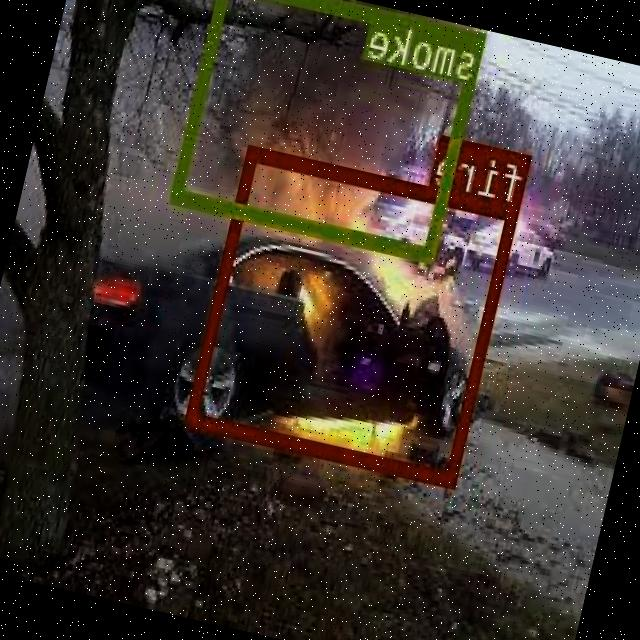fire: (188, 144, 522, 486)
smoke: (174, 0, 489, 259)
